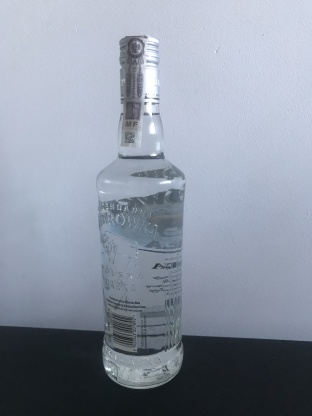nakretka: (116, 32, 162, 107)
